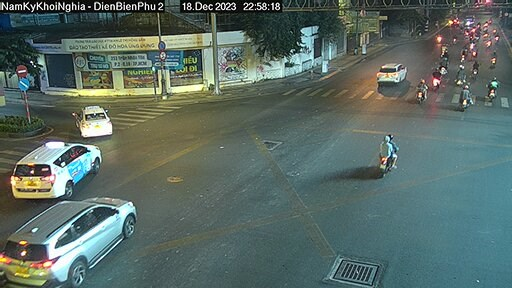car: (5, 197, 143, 284), (11, 135, 101, 193), (72, 104, 125, 142), (374, 59, 406, 87)
motorbike: (372, 136, 405, 179), (460, 81, 476, 109), (414, 81, 430, 102), (489, 76, 501, 104), (433, 66, 443, 93), (457, 62, 467, 82), (474, 59, 483, 77)
